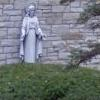Statue: (18, 5, 52, 66)
